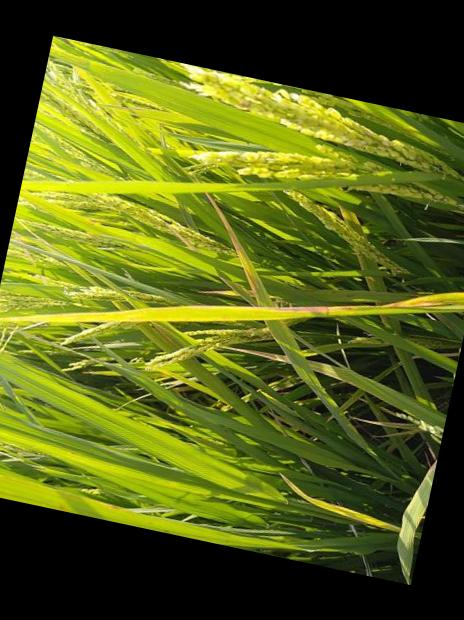Leaf Blight: (0, 291, 464, 324), (279, 471, 401, 533), (397, 458, 438, 577)
Leaf Streak: (207, 192, 269, 306), (216, 343, 292, 362), (56, 499, 73, 513), (102, 503, 126, 512)
